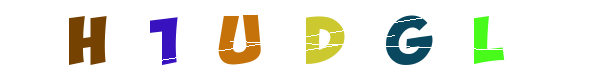1: (126, 0, 206, 80)
D: (270, 0, 350, 80)
G: (367, 0, 447, 80)
H: (122, 0, 202, 80)
L: (444, 0, 524, 80)
U: (268, 0, 348, 80)
